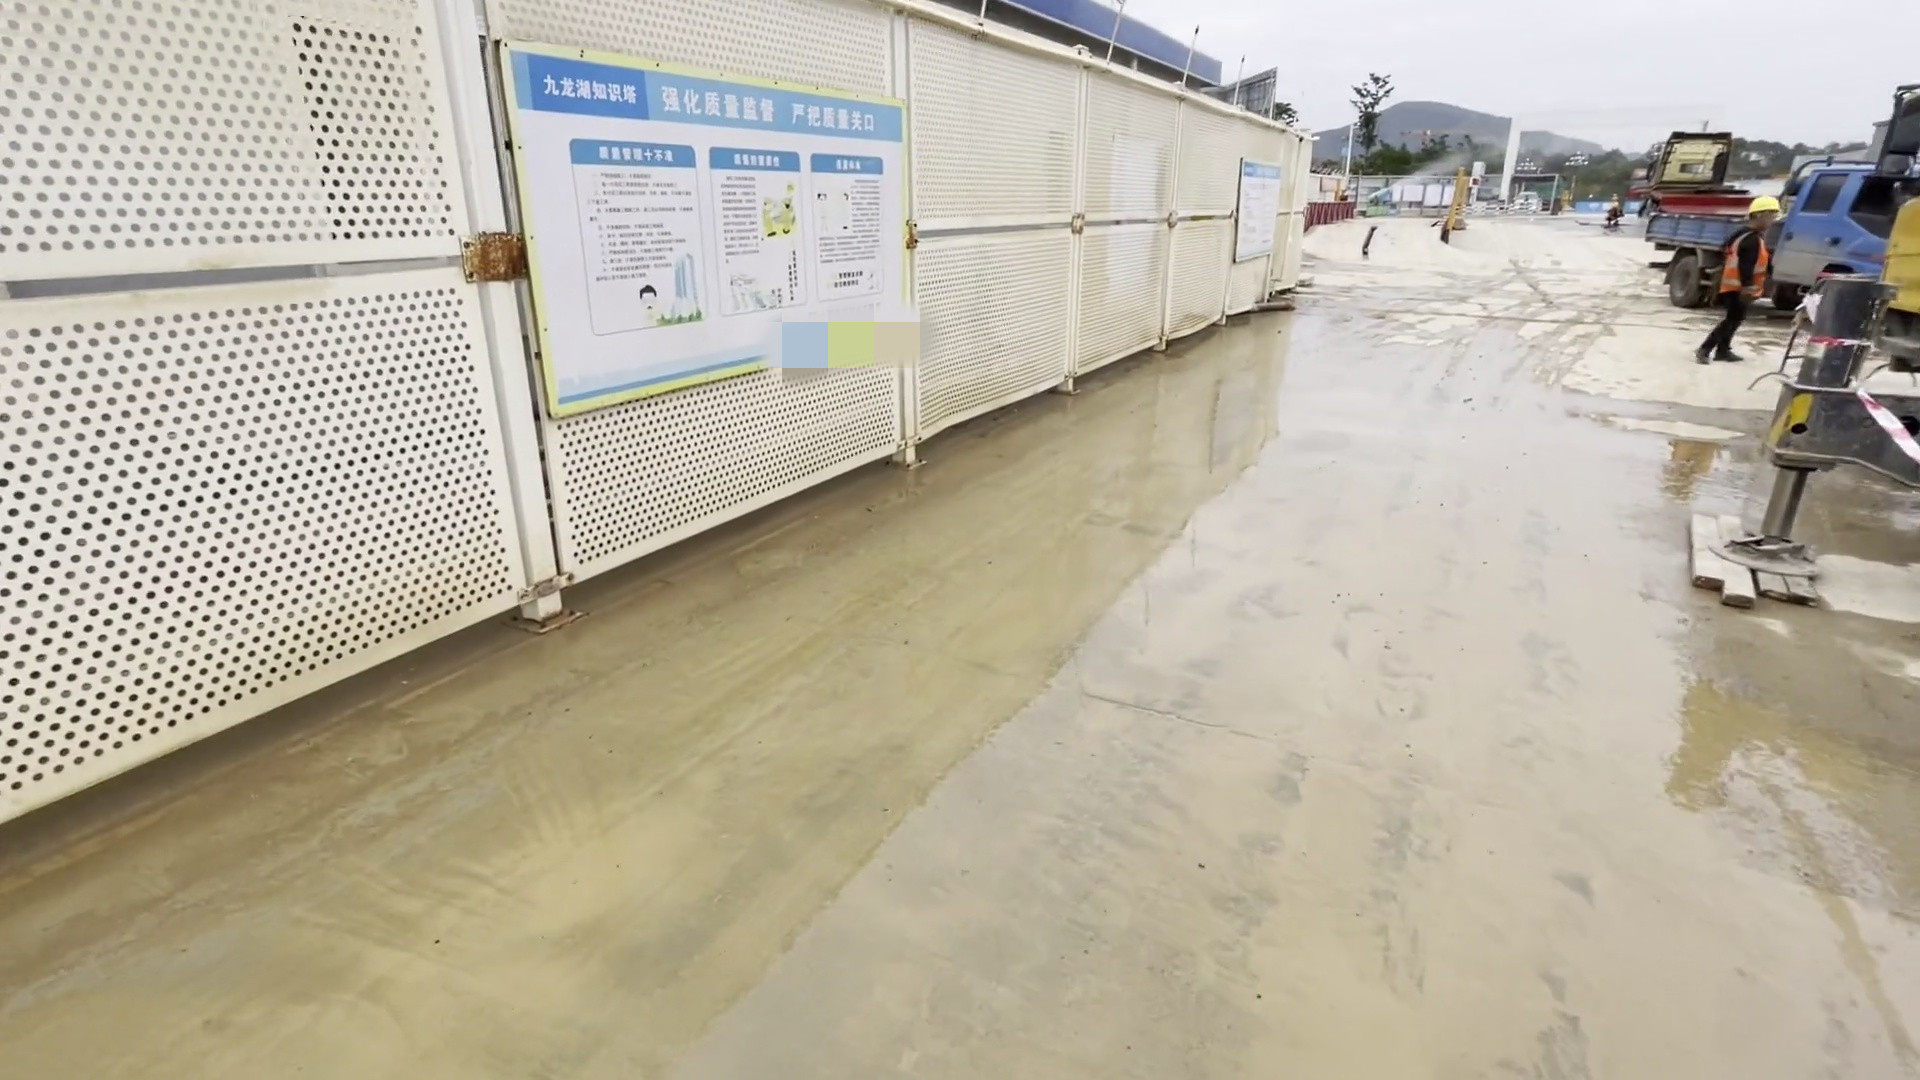slogan: (467, 22, 915, 400)
